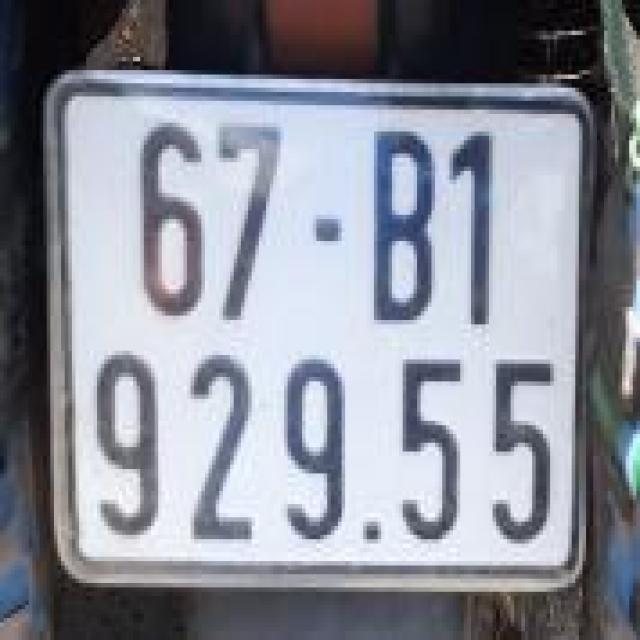1: (453, 116, 503, 340)
2: (180, 347, 262, 552)
5: (396, 340, 471, 546), (485, 346, 561, 548)
6: (129, 106, 216, 324)
7: (210, 101, 282, 329)
9: (79, 342, 165, 548), (280, 346, 352, 548)
B: (358, 112, 437, 335)
